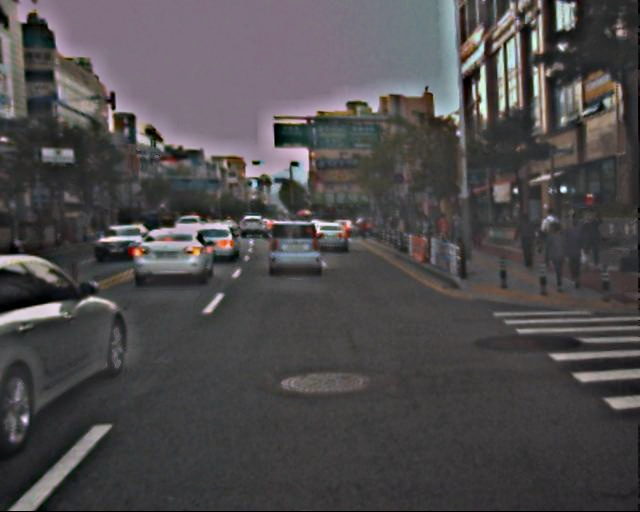person: (410, 210, 486, 249), (559, 217, 588, 287), (543, 223, 570, 290), (581, 211, 604, 268), (536, 209, 559, 265), (516, 213, 539, 268)
